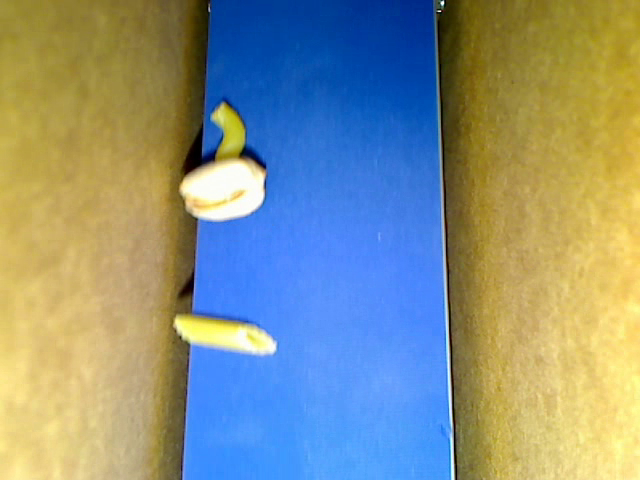elbow: (211, 99, 244, 163)
penne: (173, 313, 277, 355)
